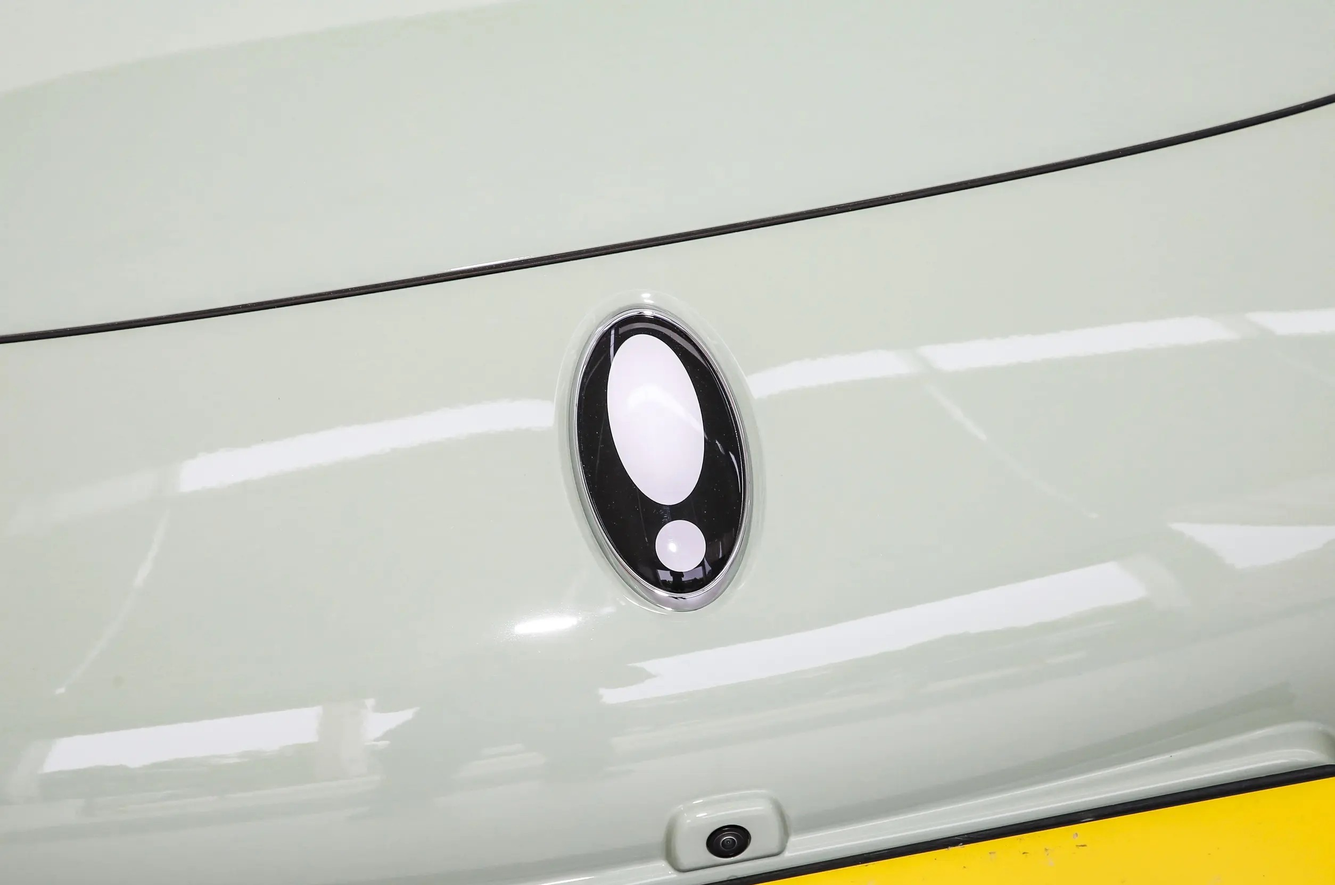ORA: (569, 304, 751, 611)
